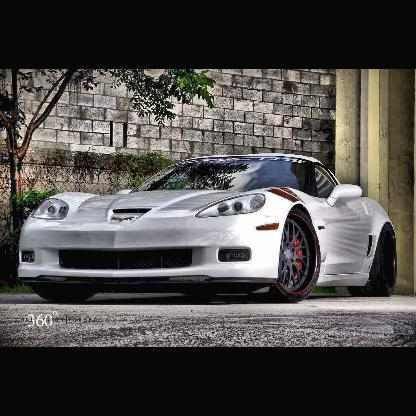Chevrolet Corvette Ron Fellows Edition Z06 2007: (19, 155, 400, 311)
